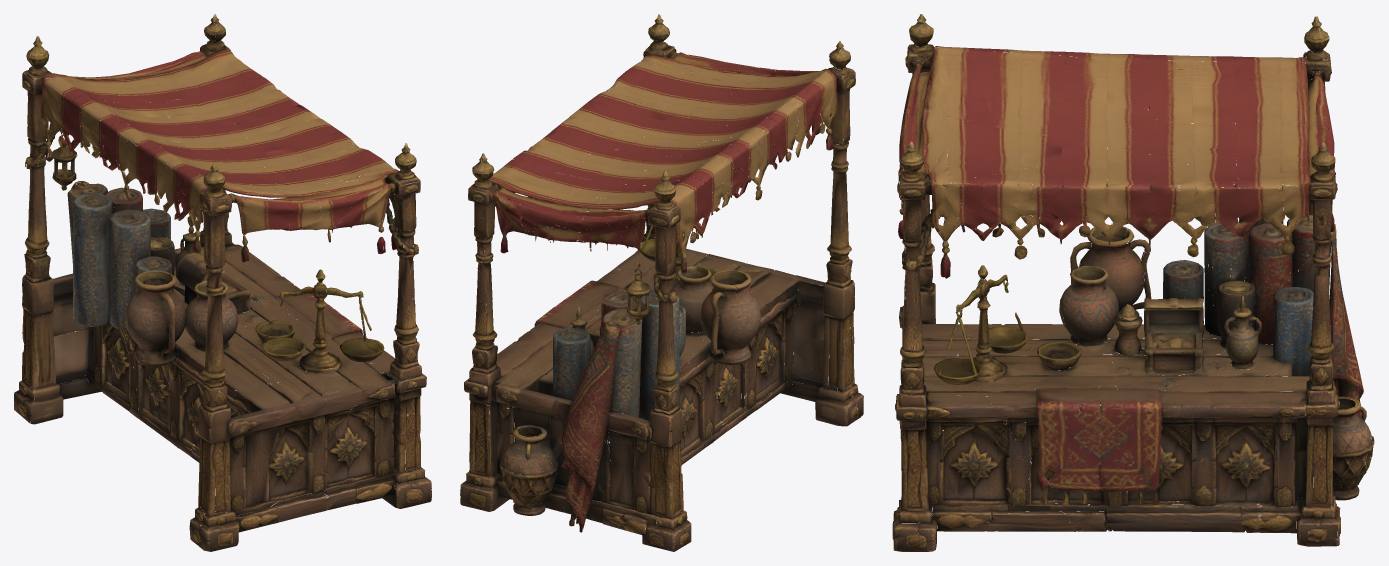
Rendered from merchant-stall-tripo.glb.
The picture shows the model from 3 angles, left to right: view 1: azimuth 30°, elevation 25°; view 2: azimuth 150°, elevation 25°; view 3: azimuth 270°, elevation 25°; orthographic projection. The views are drawn at different scales.
Parts seen in each view (by area): view 1: tripo_node_a0cc1f67-bd32-4836-9c0f-19285cef8eff; view 2: tripo_node_a0cc1f67-bd32-4836-9c0f-19285cef8eff; view 3: tripo_node_a0cc1f67-bd32-4836-9c0f-19285cef8eff.
Boxes of the visible parts, bbox=[...] form: tripo_node_a0cc1f67-bd32-4836-9c0f-19285cef8eff: bbox=[14, 14, 431, 551]; tripo_node_a0cc1f67-bd32-4836-9c0f-19285cef8eff: bbox=[460, 14, 863, 551]; tripo_node_a0cc1f67-bd32-4836-9c0f-19285cef8eff: bbox=[892, 14, 1374, 551].
Bounding box in the file's own units: 0.6032 × 0.9743 × 1.
Materials: 1 (1 with a texture image).
